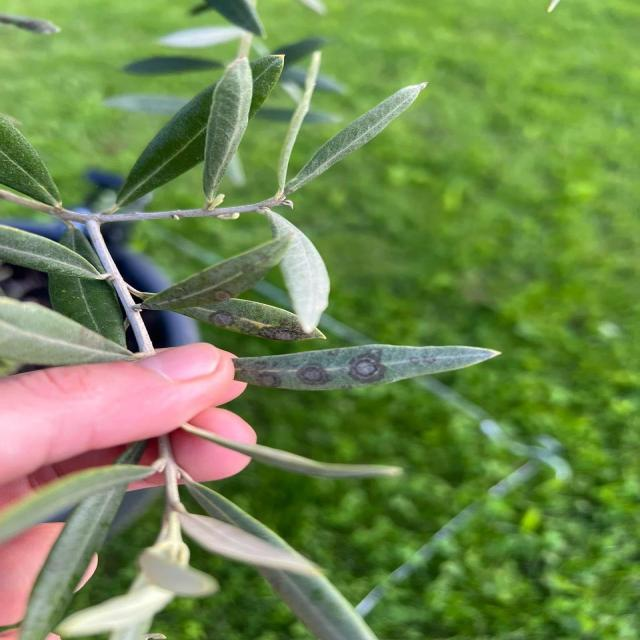Peacock Eye: (142, 229, 293, 313), (235, 344, 499, 390), (180, 300, 326, 340)
